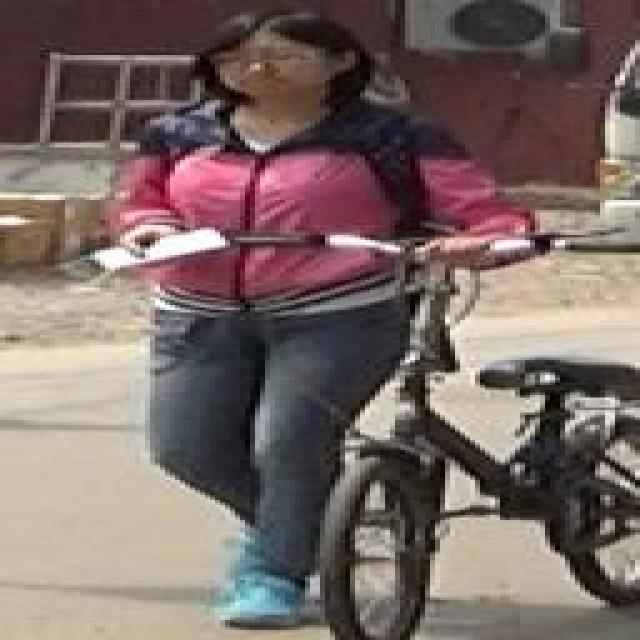adult: (71, 13, 520, 628)
